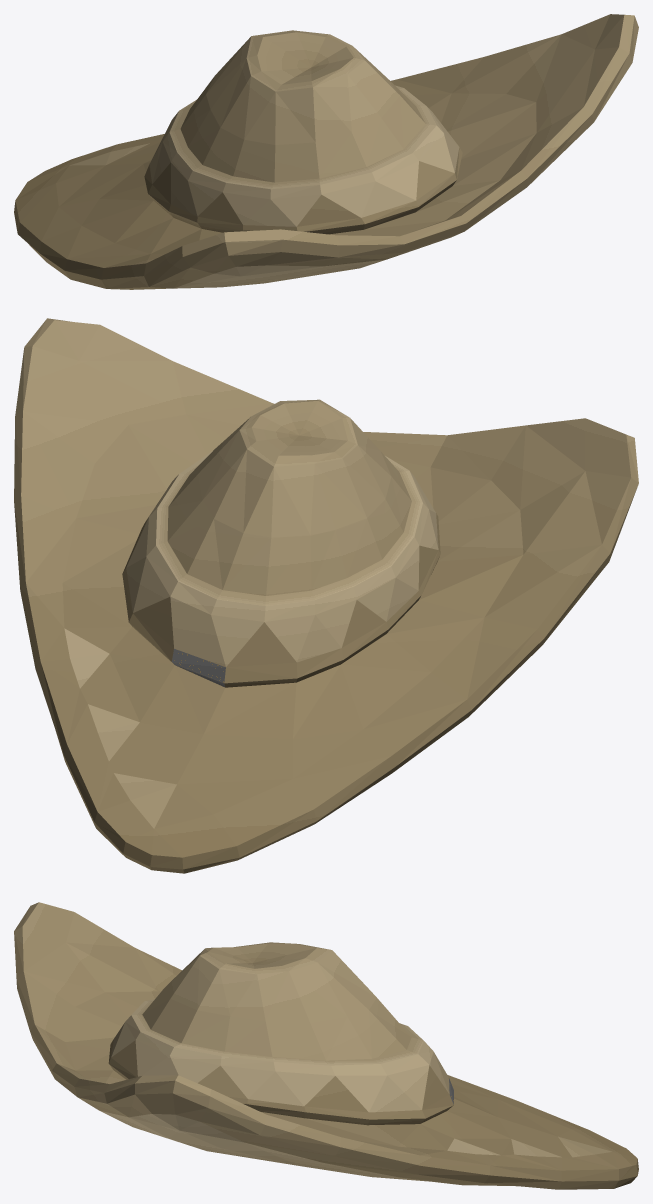
The model's file is CharSkyKid_Horn_AP19TriangleHat.glb.
3 renders of one model, top to bottom at view 1: azimuth 30°, elevation 25°; view 2: azimuth 150°, elevation 25°; view 3: azimuth 270°, elevation 25°, orthographic. The views are drawn at different scales.
Visible parts, largest first — view 1: CharSkyKid_Horn_AP19TriangleHat; view 2: CharSkyKid_Horn_AP19TriangleHat; view 3: CharSkyKid_Horn_AP19TriangleHat.
Boxes of the visible parts, x1,y1,x2,y2 form: CharSkyKid_Horn_AP19TriangleHat: (14,14,638,289); CharSkyKid_Horn_AP19TriangleHat: (14,318,638,873); CharSkyKid_Horn_AP19TriangleHat: (14,902,638,1189).
Bounding box in the file's own units: 5.58 × 2.78 × 6.14.
Materials: 1 (1 with a texture image).
